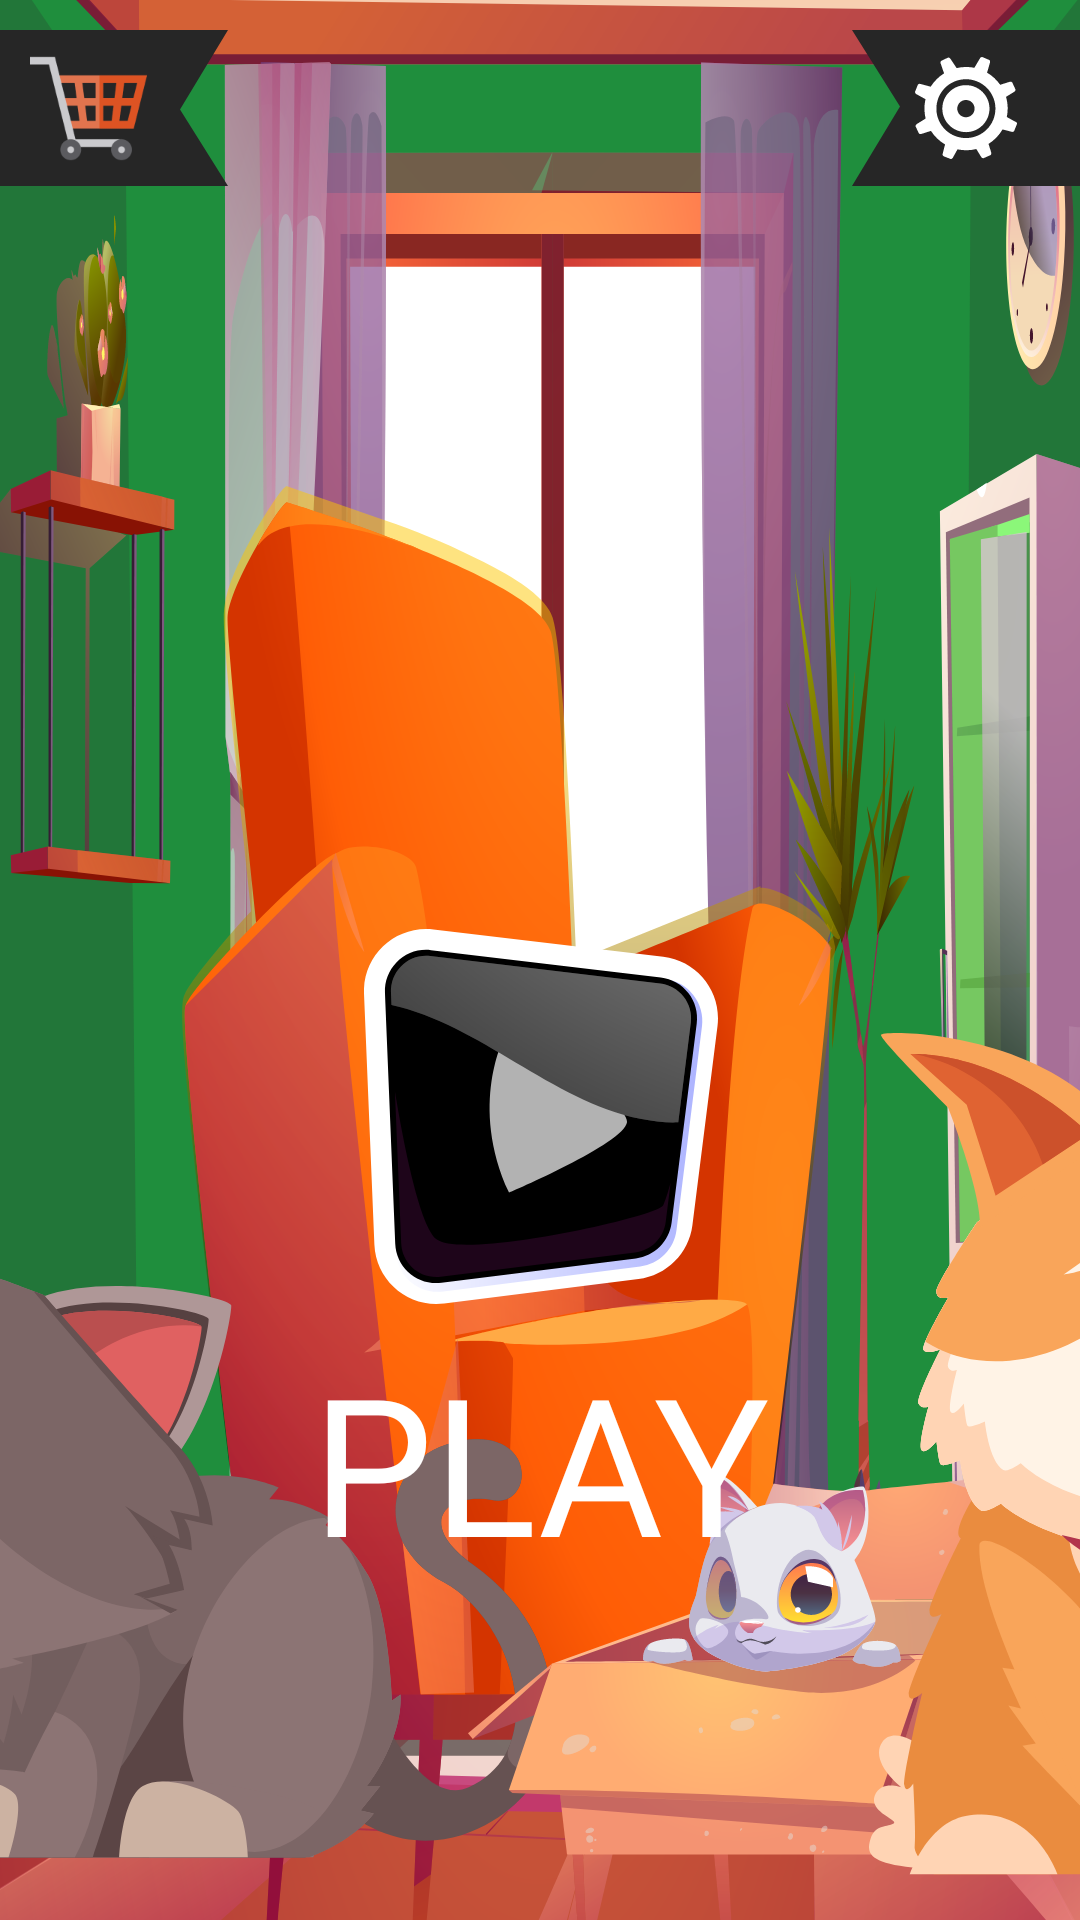

Screen size 1080×1920. Icon name, then its box in pixels as (x1, y1, x2, y2):
setting: (915, 57, 1017, 159)
